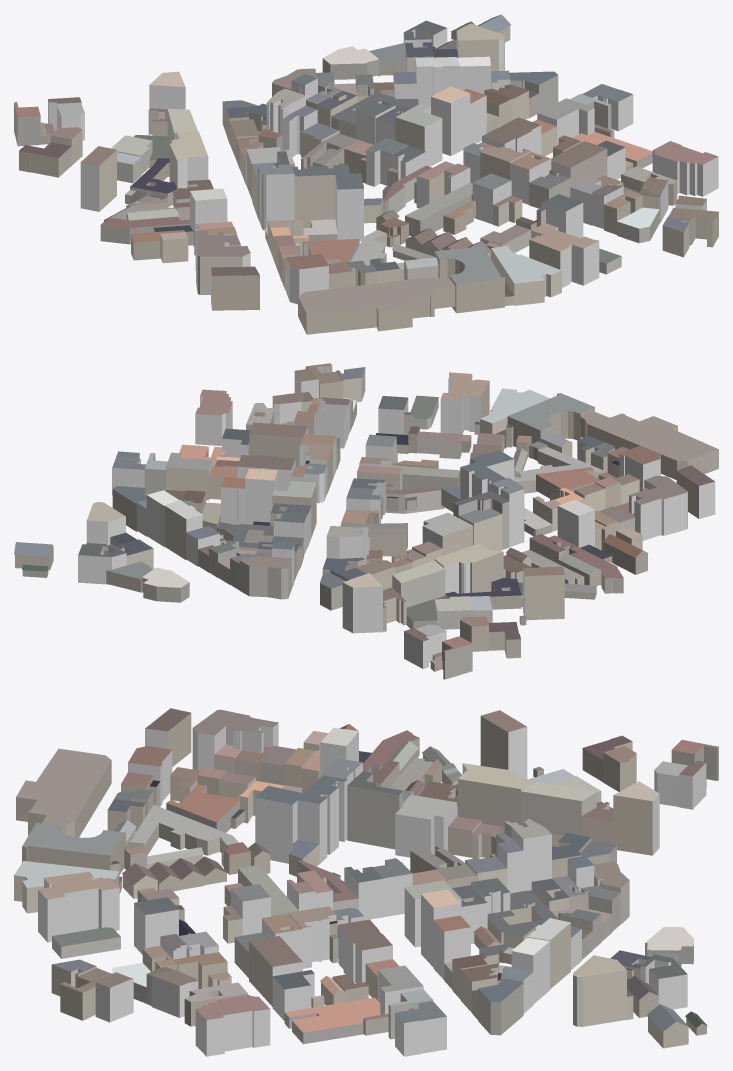
3 views of the same model, one above another, from view 1: azimuth 30°, elevation 25°; view 2: azimuth 150°, elevation 25°; view 3: azimuth 270°, elevation 25° (orthographic). The views are drawn at different scales.
Parts seen in each view (by area): view 1: tuile; view 2: tuile; view 3: tuile.
Boxes of the visible parts, x1,y1,x2,y2 form: tuile: (14,14,718,334); tuile: (14,363,718,679); tuile: (14,708,718,1056).
Size of the model in its own units: 268 by 32.76 by 270.
